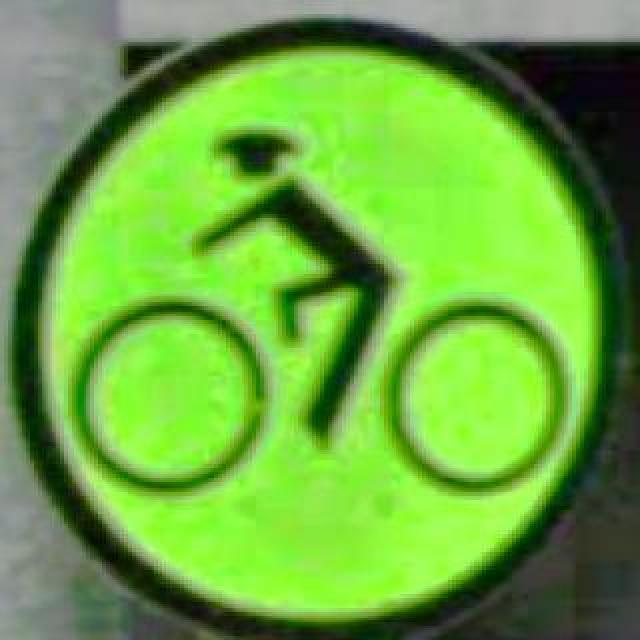bike lane: (10, 14, 616, 638)
